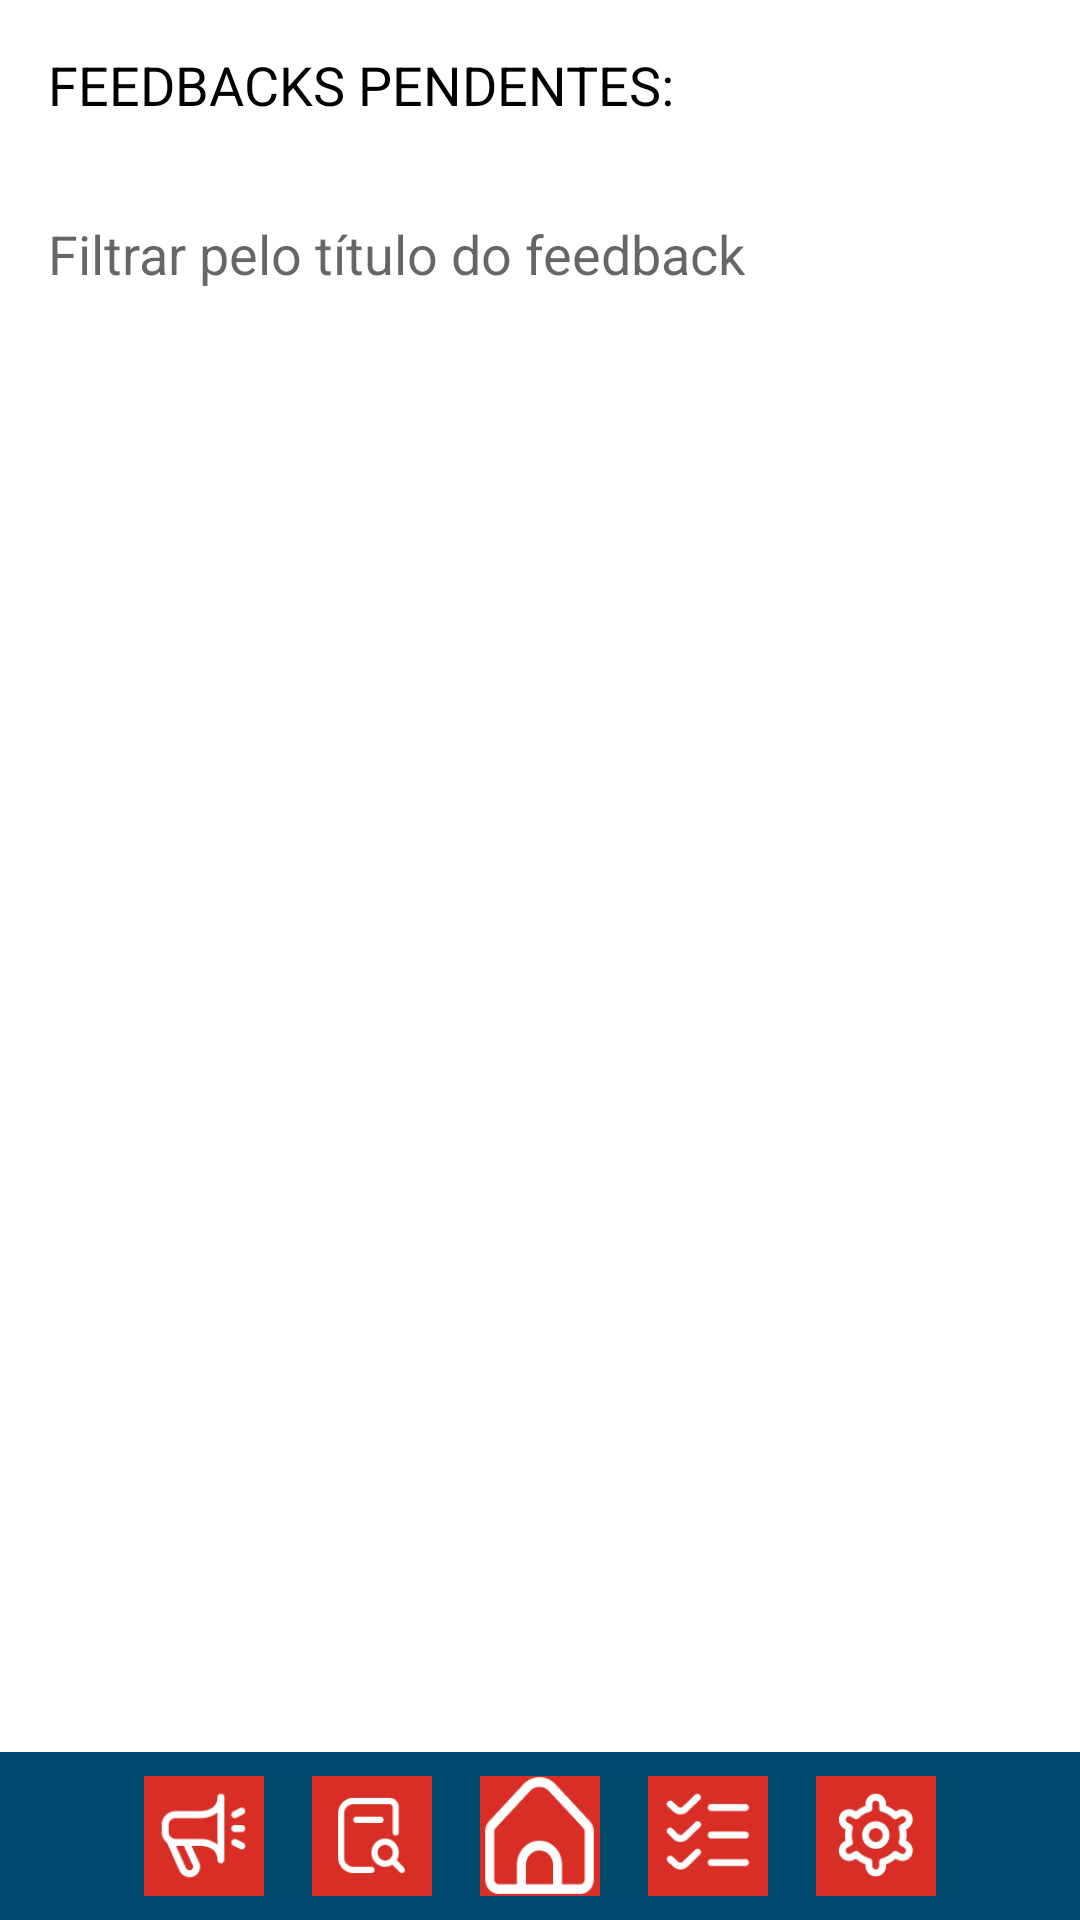

Where to tap for icons on this 1080w x 1920h app screen, as (x,y):
feedback: (204,1836)
feedback pendente: (372,1836)
home: (540,1836)
lista afazeres: (708,1836)
